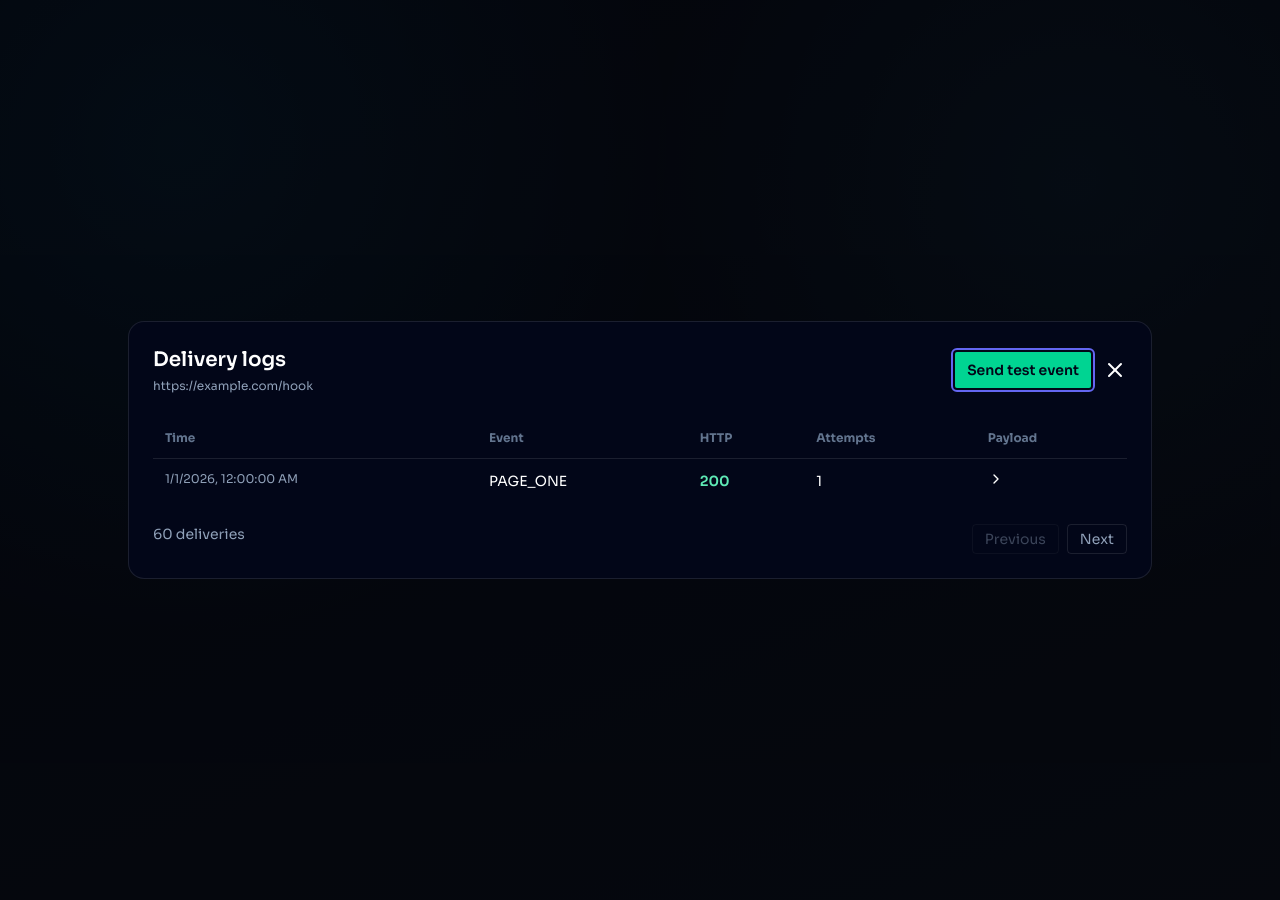
Test: WebhookDeliveryModal delivery-log requests › ignores a slow older page that resolves after a newer one
Expected: the text "PAGE_ONE" is shown, [477, 458, 688, 504]
Page quickly through 2 to 3 while page 2 is still in flight.
Click the button "Next": click(1097, 539) [1067, 524, 1127, 554]
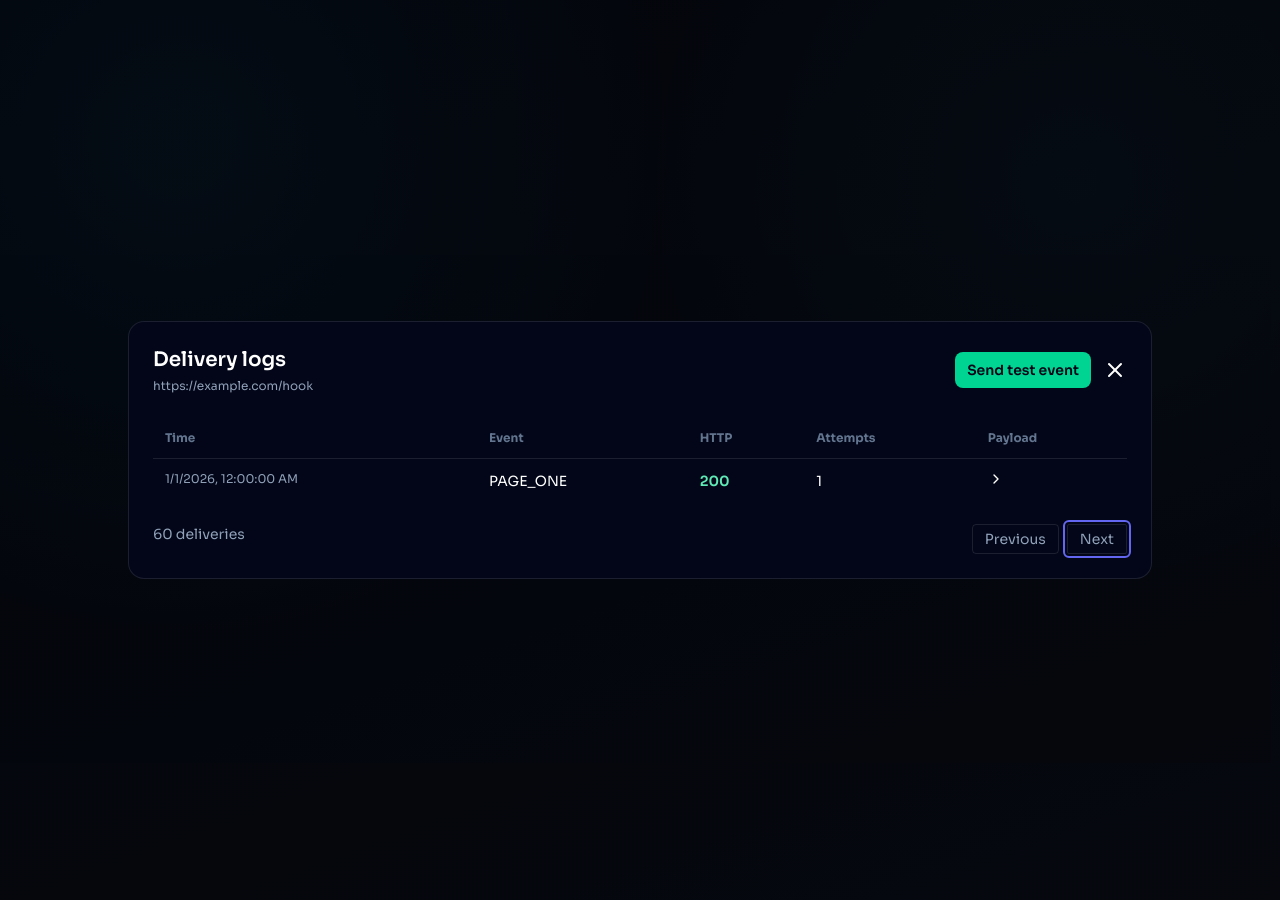
Click the button "Next": click(1097, 539) [1067, 524, 1127, 554]
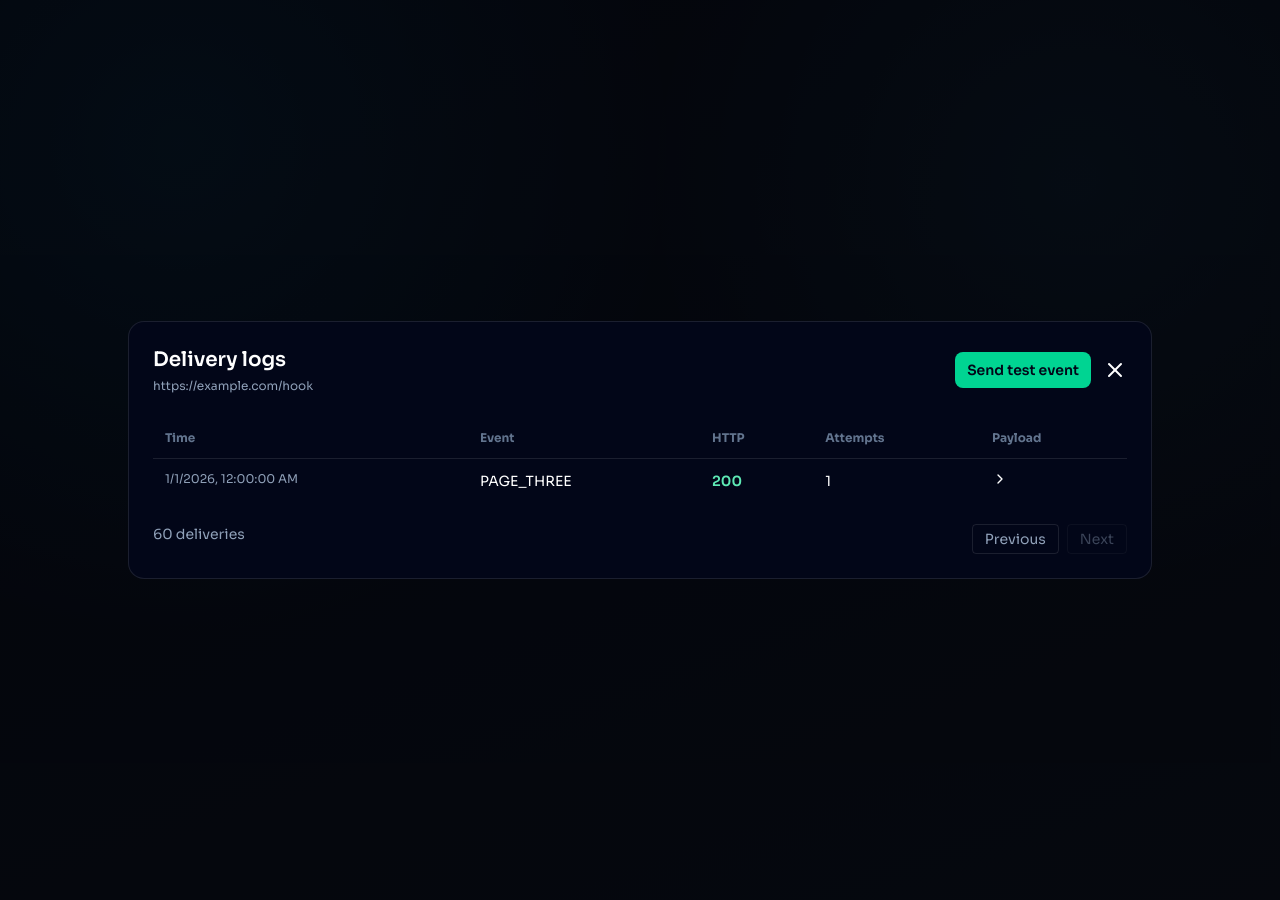
Expected: the text "60 deliveries" is shown, [153, 524, 245, 554]
Result: the text "PAGE_THREE" is shown at [468, 458, 700, 504]
